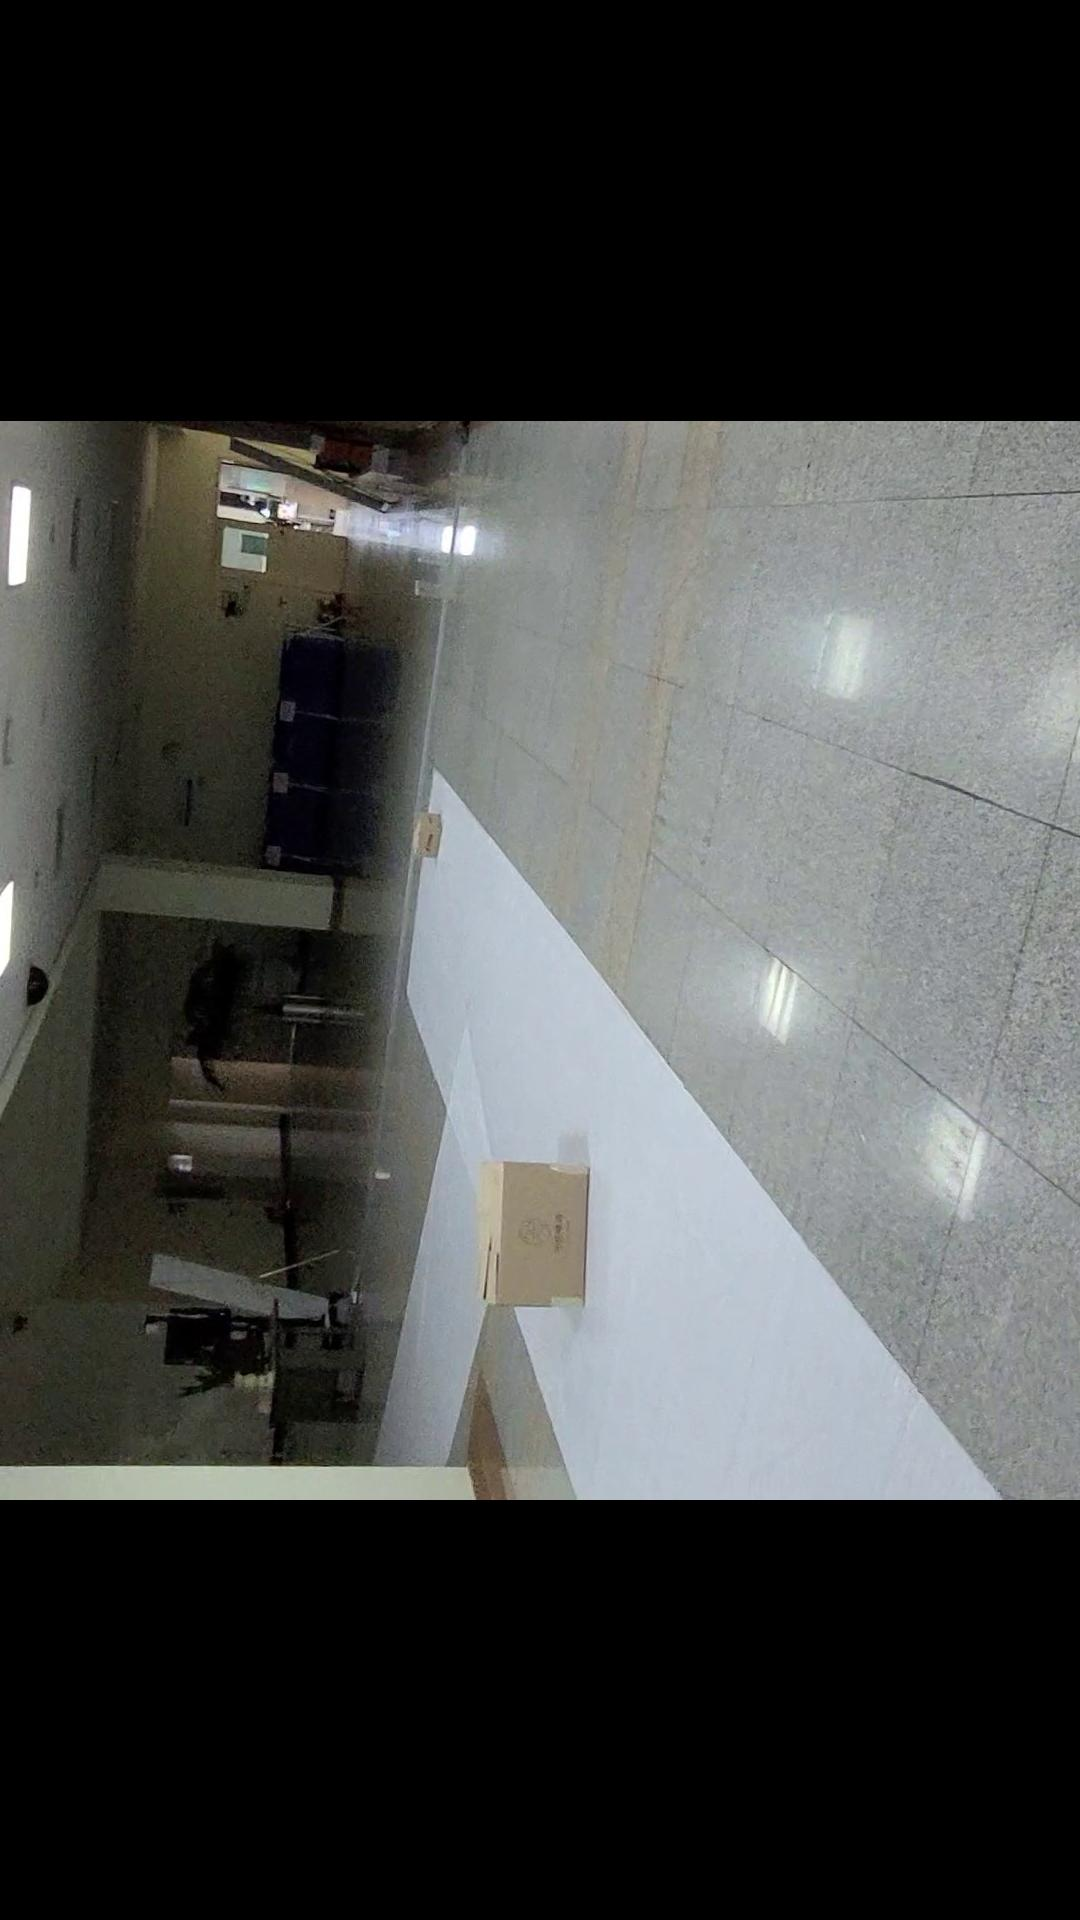Box: (460, 1125, 612, 1317), (396, 781, 462, 899)
